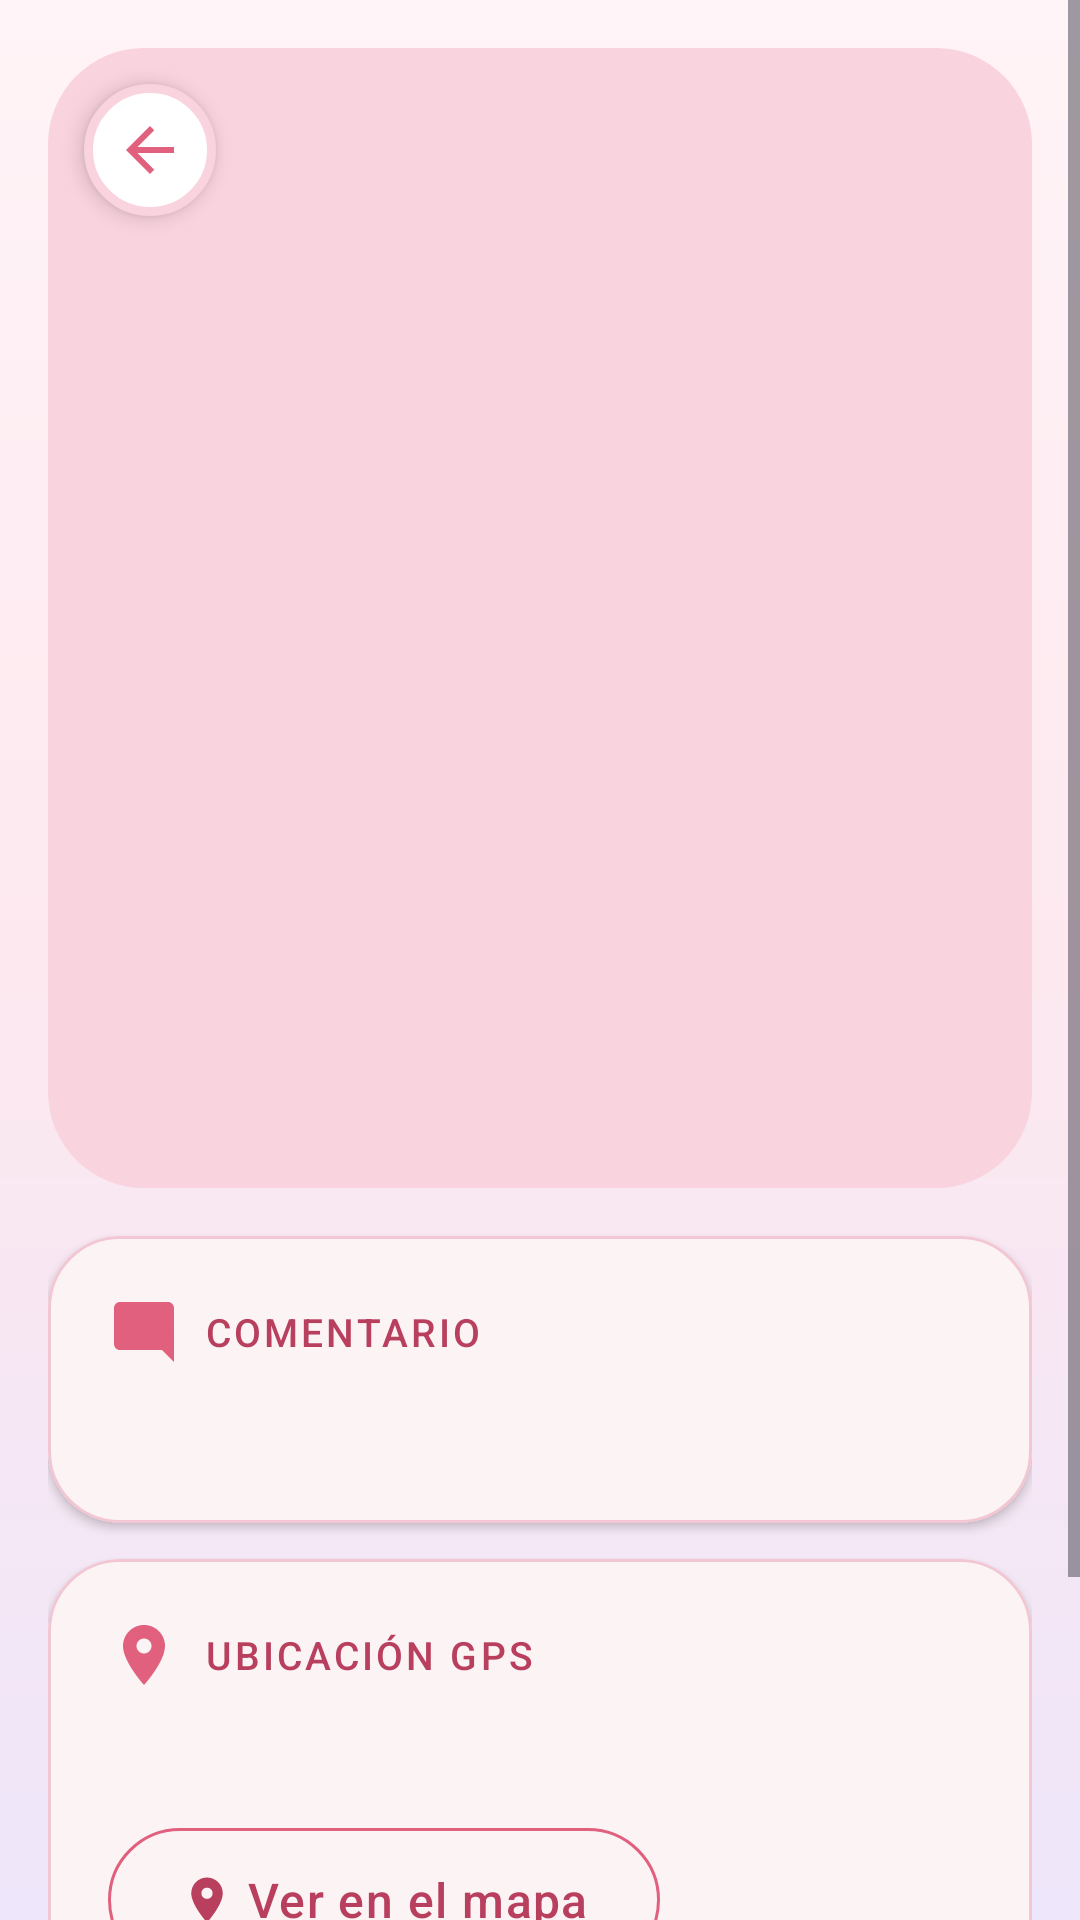

Locate icon controls on the screen. Image size 1080w x 1920h, boxes as (left=x1, top=y1, right=x2, bottom=y2).
atras: (left=84, top=93, right=207, bottom=216)
